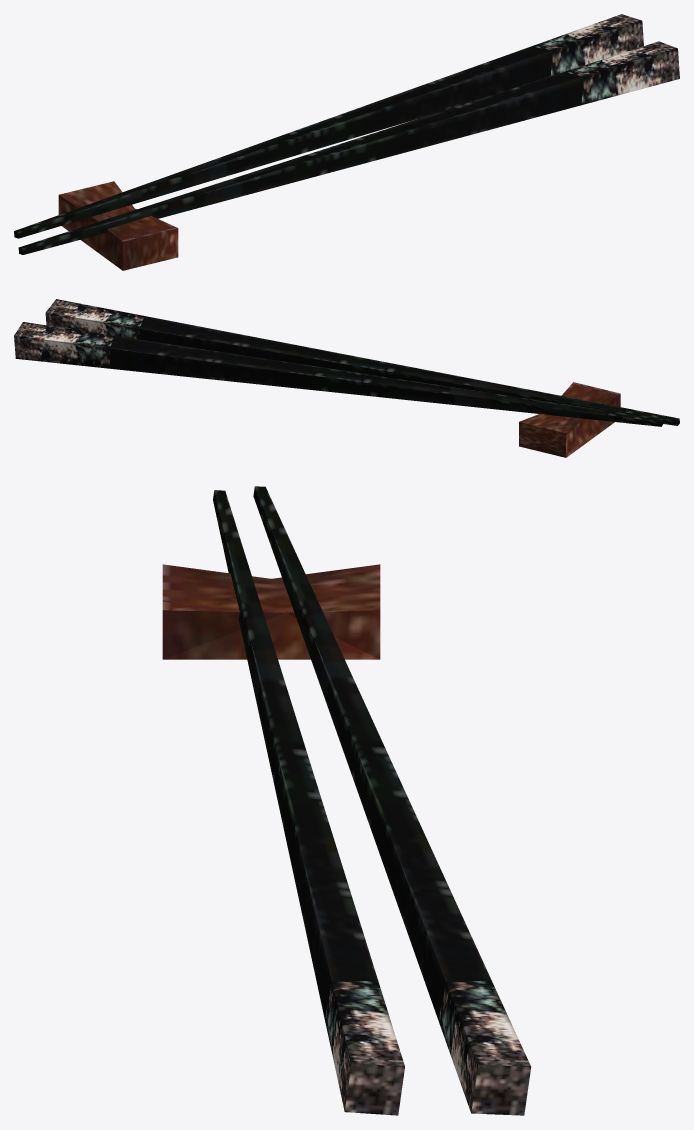
File: it_chopsticks01.fbx
3 renders of one model, top to bottom at view 1: azimuth 30°, elevation 25°; view 2: azimuth 150°, elevation 25°; view 3: azimuth 270°, elevation 25°, orthographic. The views are drawn at different scales.
Parts seen in each view (by area): view 1: mesh_0; view 2: mesh_0; view 3: mesh_0.
Part boxes in pixels (x1,y1,x2,y2): mesh_0: (14, 14, 679, 270); mesh_0: (14, 299, 679, 457); mesh_0: (162, 486, 531, 1115).
Size of the model in its own units: 25.11 by 1.29 by 6.78.
1 material, 1 textured.
